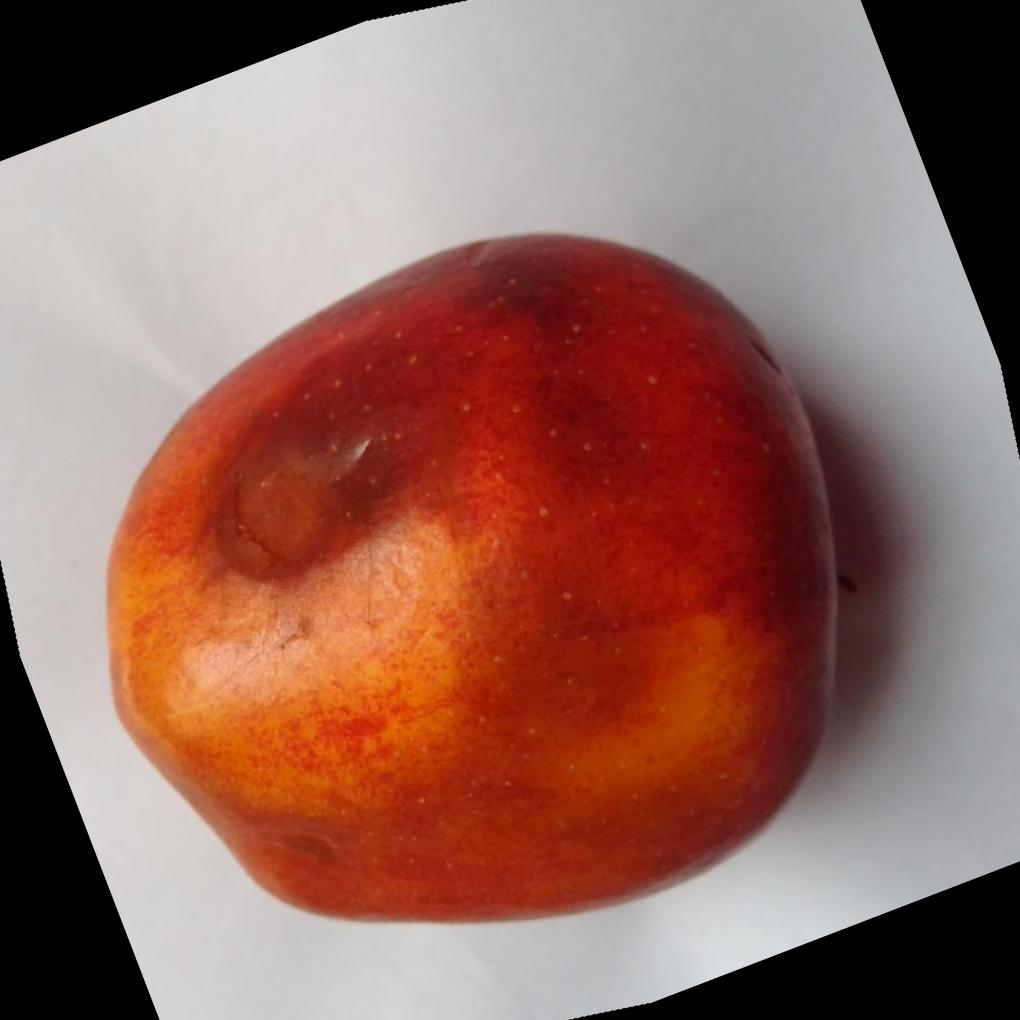FreshOrange: (106, 229, 845, 923)
